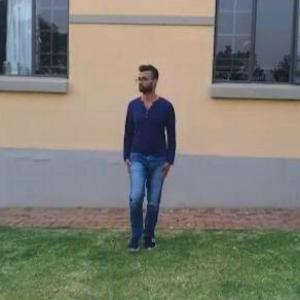follow: (113, 51, 182, 267)
